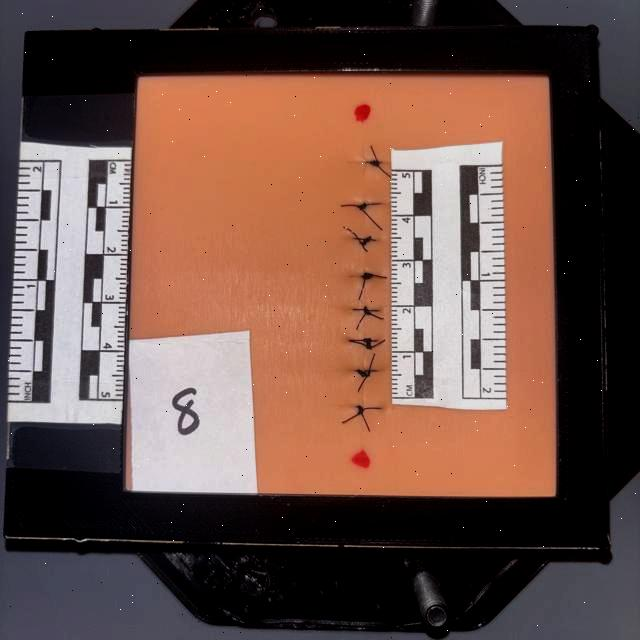incision_line: (360, 112, 368, 462)
scale_marker: (388, 218, 413, 258)
suture_d: (349, 165, 378, 207), (353, 202, 375, 238), (357, 274, 375, 312), (357, 373, 373, 407), (358, 341, 376, 371), (357, 309, 373, 341), (358, 240, 373, 274)
suture_l: (340, 202, 364, 210), (345, 158, 365, 166), (346, 272, 364, 280), (350, 307, 364, 313), (348, 338, 364, 343), (352, 406, 364, 411), (352, 368, 363, 373), (352, 237, 364, 241)
suture_r: (364, 201, 386, 210), (364, 272, 388, 280), (365, 158, 383, 166), (364, 406, 386, 411), (364, 236, 382, 242), (365, 307, 383, 313), (364, 367, 382, 373), (364, 338, 380, 343)
